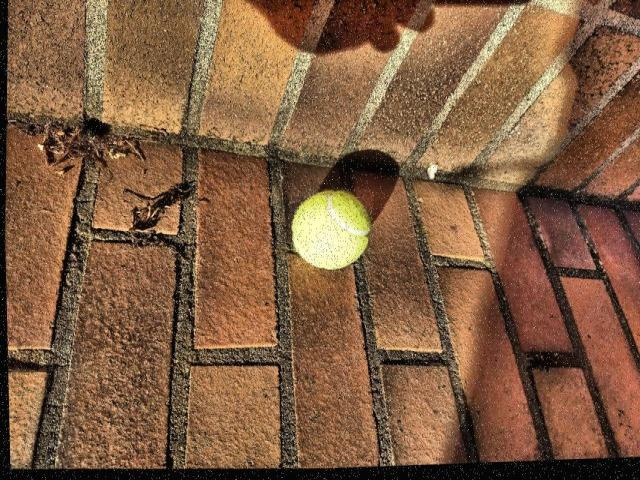tennis-ball: (290, 190, 370, 271)
